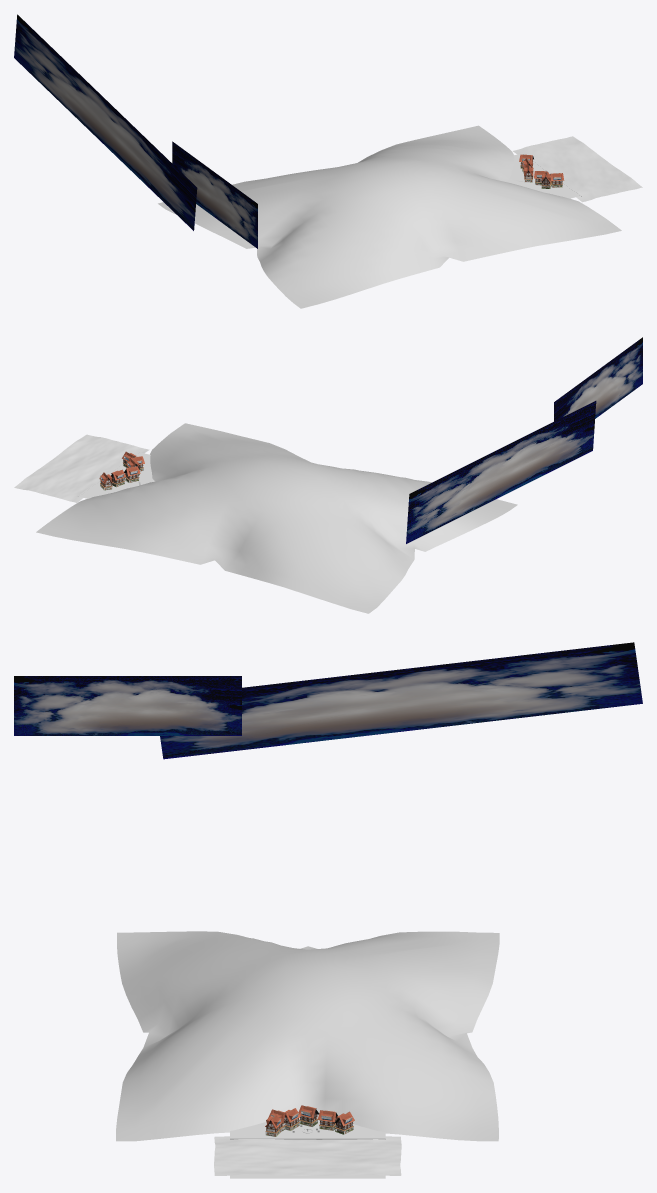
The model's file is Swiss_Arena.fbx.
3 renders of one model, top to bottom at view 1: azimuth 30°, elevation 25°; view 2: azimuth 150°, elevation 25°; view 3: azimuth 270°, elevation 25°, orthographic. The views are drawn at different scales.
Parts seen in each view (by area): view 1: Collina, Nuvola2, Acqua, Nuvola1, Base; view 2: Collina, Nuvola2, Acqua, Nuvola1, Base; view 3: Collina, Nuvola2, Nuvola1, Acqua, Base.
Part boxes in pixels (box(x1,y1,x2,y2)): Collina: box(158, 125, 621, 308); Nuvola2: box(14, 14, 197, 230); Acqua: box(513, 136, 642, 202); Nuvola1: box(172, 141, 257, 248); Base: box(506, 153, 581, 198); Collina: box(36, 423, 517, 613); Nuvola2: box(406, 401, 596, 543); Acqua: box(14, 434, 149, 502); Nuvola1: box(554, 337, 642, 421); Base: box(77, 452, 154, 498); Collina: box(116, 931, 499, 1141); Nuvola2: box(160, 642, 642, 759); Nuvola1: box(14, 676, 241, 735); Acqua: box(214, 1135, 401, 1175); Base: box(230, 1111, 385, 1178).
Size of the model in its own units: 4624 by 1667 by 4038.
